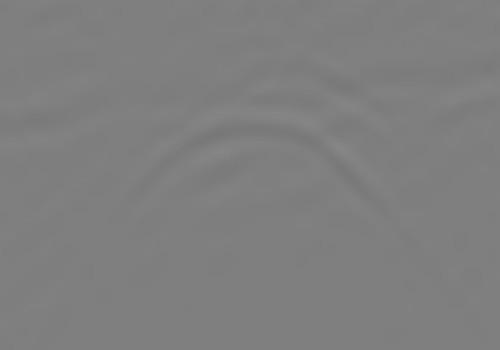Hyperbola: (109, 104, 421, 304)
